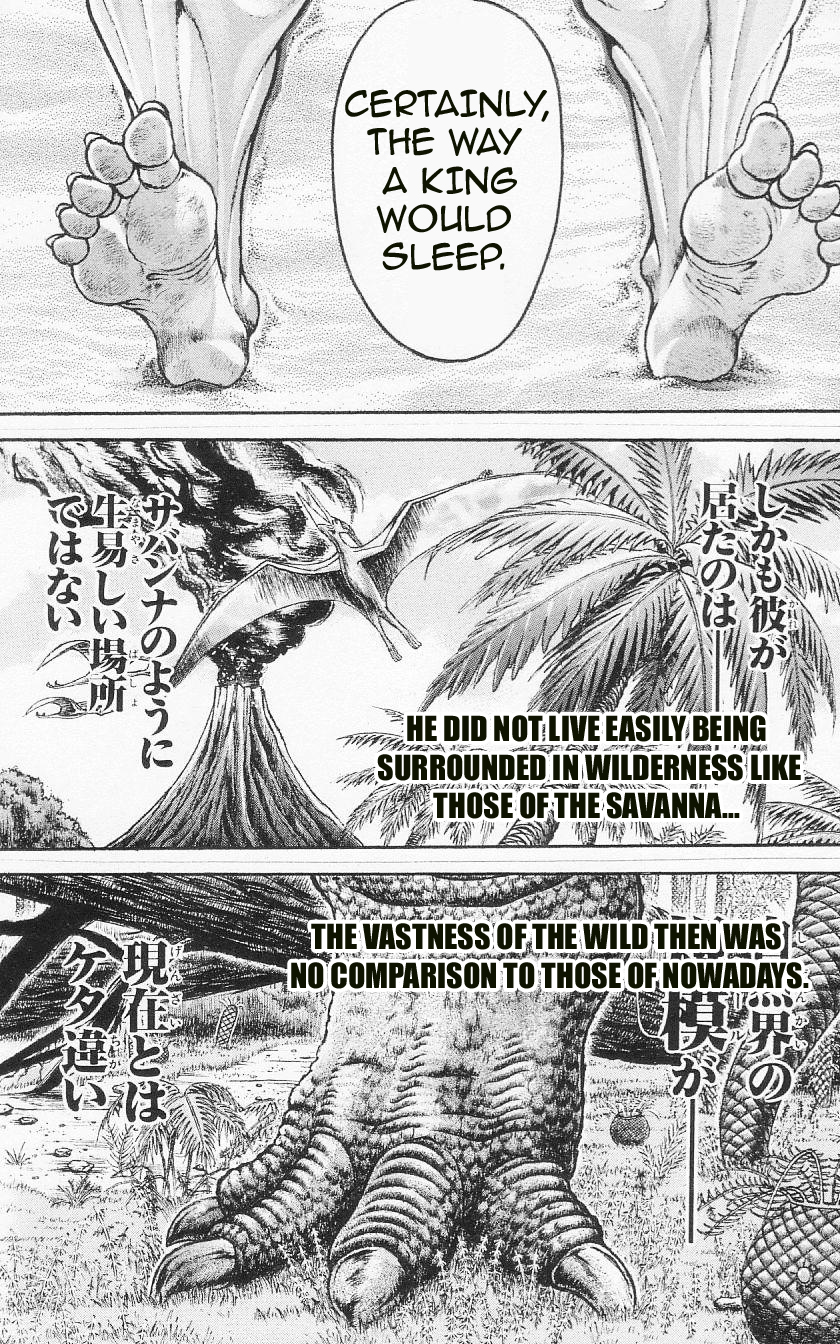Baloon: (331, 2, 568, 367)
Vignetta: (1, 867, 837, 1344), (4, 1, 840, 416), (2, 439, 840, 845)
